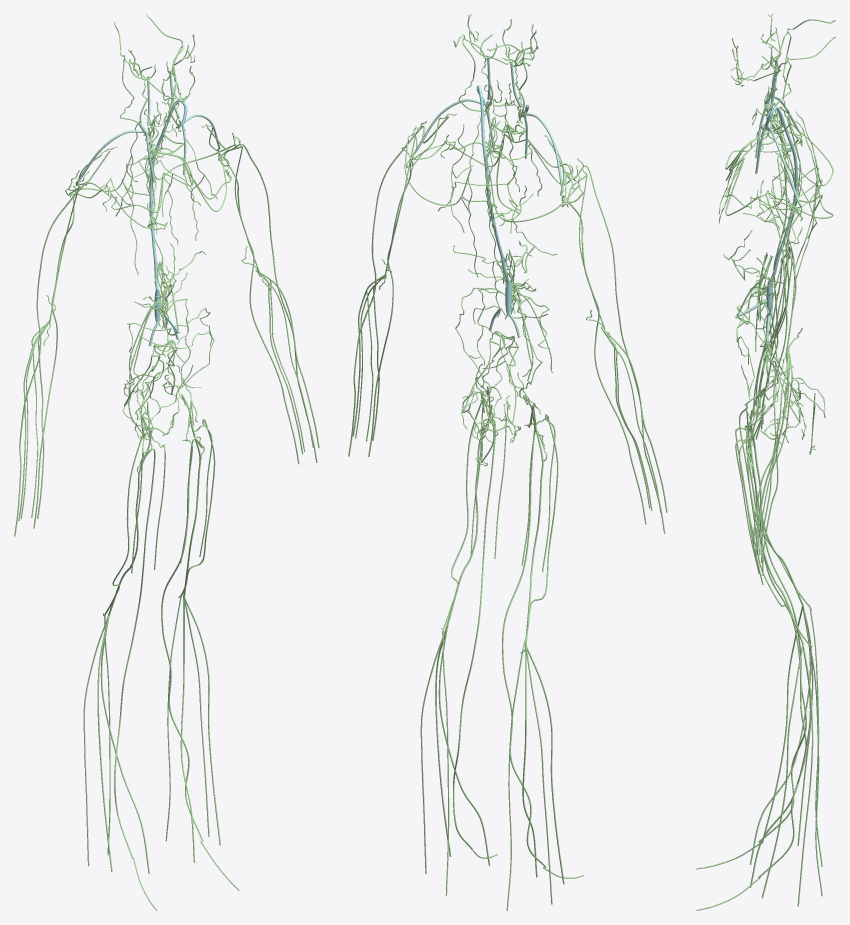
Rendered from vaisseaux_lymphatiques.glb.
3 renders of one model, left to right at view 1: azimuth 30°, elevation 25°; view 2: azimuth 150°, elevation 25°; view 3: azimuth 270°, elevation 25°, orthographic. The views are drawn at different scales.
Visible parts, largest first — view 1: Tibial group of lymphatic vessels.l, Radial group of lymphatic vessels.r, Superficial lymphatic vessel of lower limb.r, Tibial group of lymphatic vessels.r, Ulnar group of lymphatic vessels.r, Superficial lymphatic vessel of lower limb.l, Ulnar group of lymphatic vessels.l, Radial group of lymphatic vessels.l, Femoral group of lymphatic vessels.r, Femoral group of lymphatic vessels.l; view 2: Tibial group of lymphatic vessels.r, Superficial lymphatic vessel of lower limb.l, Superficial lymphatic vessel of lower limb.r, Radial group of lymphatic vessels.r, Tibial group of lymphatic vessels.l, Radial group of lymphatic vessels.l, Ulnar group of lymphatic vessels.r, Ulnar group of lymphatic vessels.l, Femoral group of lymphatic vessels.r, Femoral group of lymphatic vessels.l; view 3: Radial group of lymphatic vessels.l, Tibial group of lymphatic vessels.l, Superficial lymphatic vessel of lower limb.l, Tibial group of lymphatic vessels.r, Ulnar group of lymphatic vessels.l, Superficial lymphatic vessel of lower limb.r, Ulnar group of lymphatic vessels.r, Femoral group of lymphatic vessels.l, Radial group of lymphatic vessels.r, Femoral group of lymphatic vessels.r, Fibular group of lymphatic vessels.l, Lymphatic vessels of Intrapulmonary nodes (+4 smaller).
Part boxes in pixels (<box>): Tibial group of lymphatic vessels.l: <box>165,596,220,862</box>; Radial group of lymphatic vessels.r: <box>14,151,110,536</box>; Superficial lymphatic vessel of lower limb.r: <box>114,438,165,910</box>; Tibial group of lymphatic vessels.r: <box>97,615,149,873</box>; Ulnar group of lymphatic vessels.r: <box>31,193,74,528</box>; Superficial lymphatic vessel of lower limb.l: <box>161,423,239,890</box>; Ulnar group of lymphatic vessels.l: <box>223,156,305,464</box>; Radial group of lymphatic vessels.l: <box>207,127,319,462</box>; Femoral group of lymphatic vessels.r: <box>104,431,152,615</box>; Femoral group of lymphatic vessels.l: <box>180,419,215,597</box>; Tibial group of lymphatic vessels.r: <box>506,645,564,910</box>; Superficial lymphatic vessel of lower limb.l: <box>453,404,506,858</box>; Superficial lymphatic vessel of lower limb.r: <box>502,418,583,878</box>; Radial group of lymphatic vessels.r: <box>550,141,667,533</box>; Tibial group of lymphatic vessels.l: <box>435,626,490,895</box>; Radial group of lymphatic vessels.l: <box>348,116,448,456</box>; Ulnar group of lymphatic vessels.r: <box>567,201,652,524</box>; Ulnar group of lymphatic vessels.l: <box>366,162,411,456</box>; Femoral group of lymphatic vessels.r: <box>522,414,558,650</box>; Femoral group of lymphatic vessels.l: <box>442,400,492,630</box>; Radial group of lymphatic vessels.l: <box>755,157,790,575</box>; Tibial group of lymphatic vessels.l: <box>749,643,822,898</box>; Superficial lymphatic vessel of lower limb.l: <box>696,439,806,910</box>; Tibial group of lymphatic vessels.r: <box>749,606,822,866</box>; Ulnar group of lymphatic vessels.l: <box>753,215,798,562</box>; Superficial lymphatic vessel of lower limb.r: <box>696,408,806,869</box>; Ulnar group of lymphatic vessels.r: <box>753,139,798,429</box>; Femoral group of lymphatic vessels.l: <box>746,429,810,646</box>; Radial group of lymphatic vessels.r: <box>755,112,790,423</box>; Femoral group of lymphatic vessels.r: <box>746,404,810,607</box>; Fibular group of lymphatic vessels.l: <box>797,644,813,906</box>; Lymphatic vessels of Intrapulmonary nodes: <box>742,145,820,245</box>.
Bounding box in the file's own units: 0.6046 × 1.59 × 0.2327.
